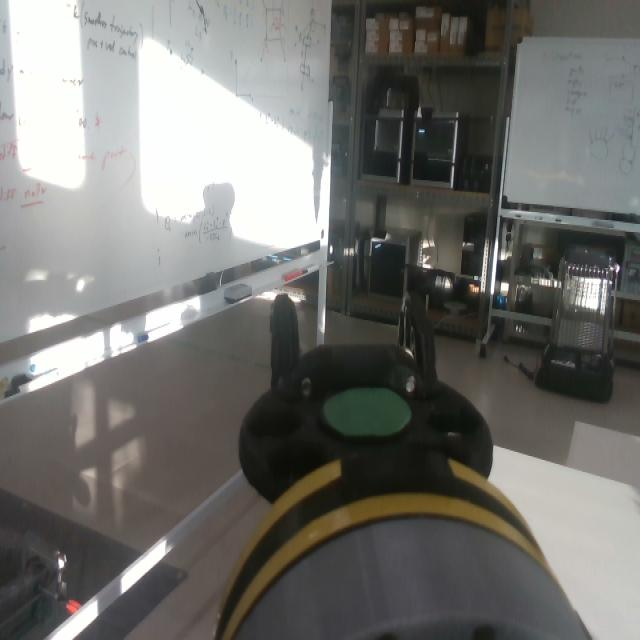body_connector: (228, 515, 588, 640)
connection: (214, 447, 592, 640)
leg: (214, 293, 552, 640)
leg_connector: (209, 448, 548, 636)
marker: (322, 385, 411, 434)
